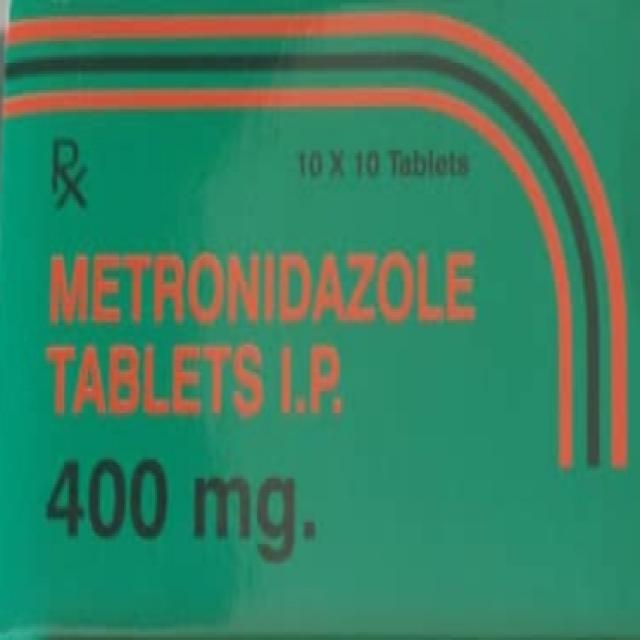drug-name: (41, 243, 493, 337)
